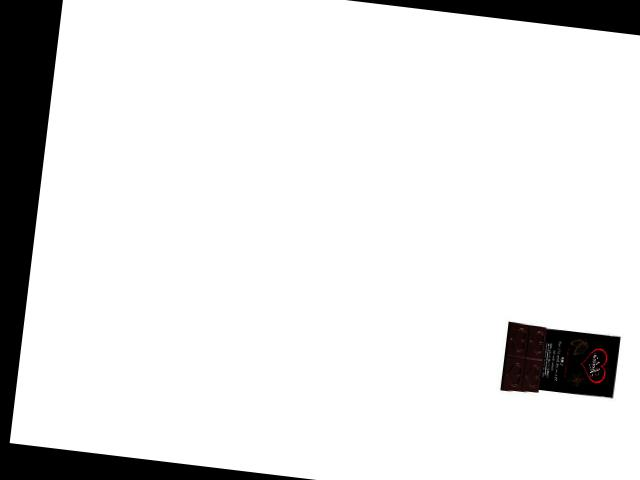chocolate: (495, 319, 621, 408)
